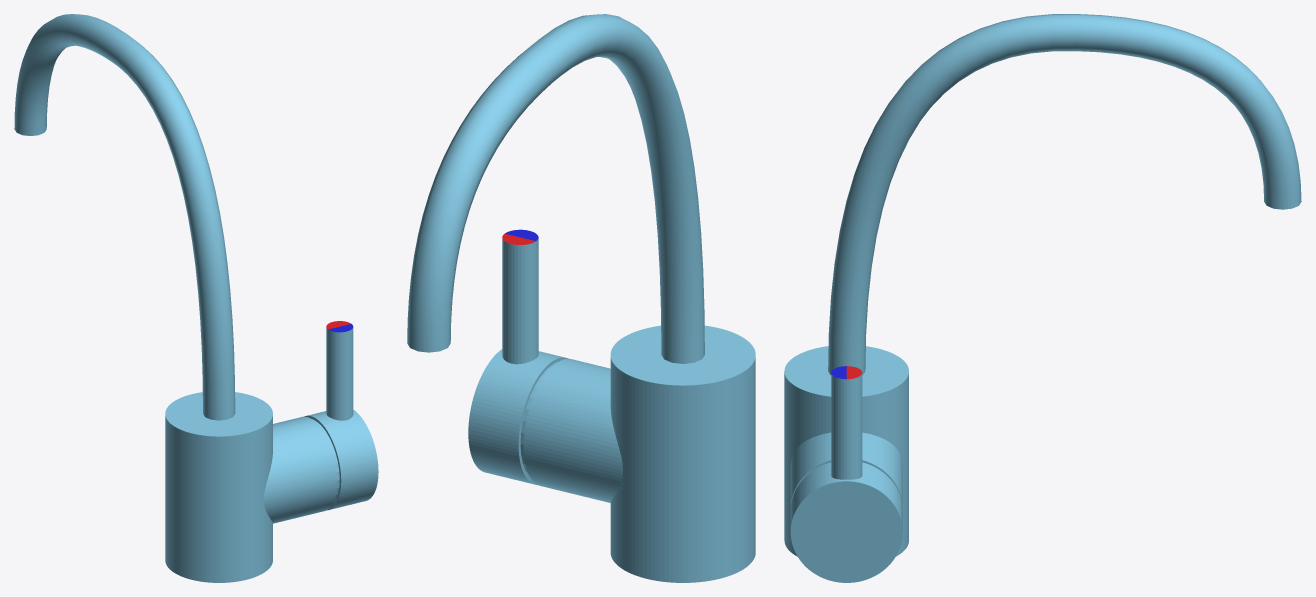
Rendered from tap.fbx.
The picture shows the model from 3 angles, left to right: view 1: azimuth 30°, elevation 25°; view 2: azimuth 150°, elevation 25°; view 3: azimuth 270°, elevation 25°; orthographic projection. The views are drawn at different scales.
Visible parts, largest first — view 1: Окружность, ТраекторияNurbs, Окружность.001; view 2: Окружность, ТраекторияNurbs, Окружность.001; view 3: ТраекторияNurbs, Окружность.001, Окружность.
Boxes of the visible parts, x1=… form: Окружность: x1=165, y1=392, x2=339, y2=582; ТраекторияNurbs: x1=14, y1=14, x2=235, y2=420; Окружность.001: x1=304, y1=321, x2=378, y2=510; Окружность: x1=520, y1=325, x2=755, y2=582; ТраекторияNurbs: x1=407, y1=14, x2=704, y2=363; Окружность.001: x1=468, y1=229, x2=568, y2=485; ТраекторияNurbs: x1=828, y1=14, x2=1301, y2=375; Окружность.001: x1=790, y1=366, x2=902, y2=582; Окружность: x1=784, y1=346, x2=908, y2=556.
Size of the model in its own units: 19.48 by 46.49 by 41.5.
